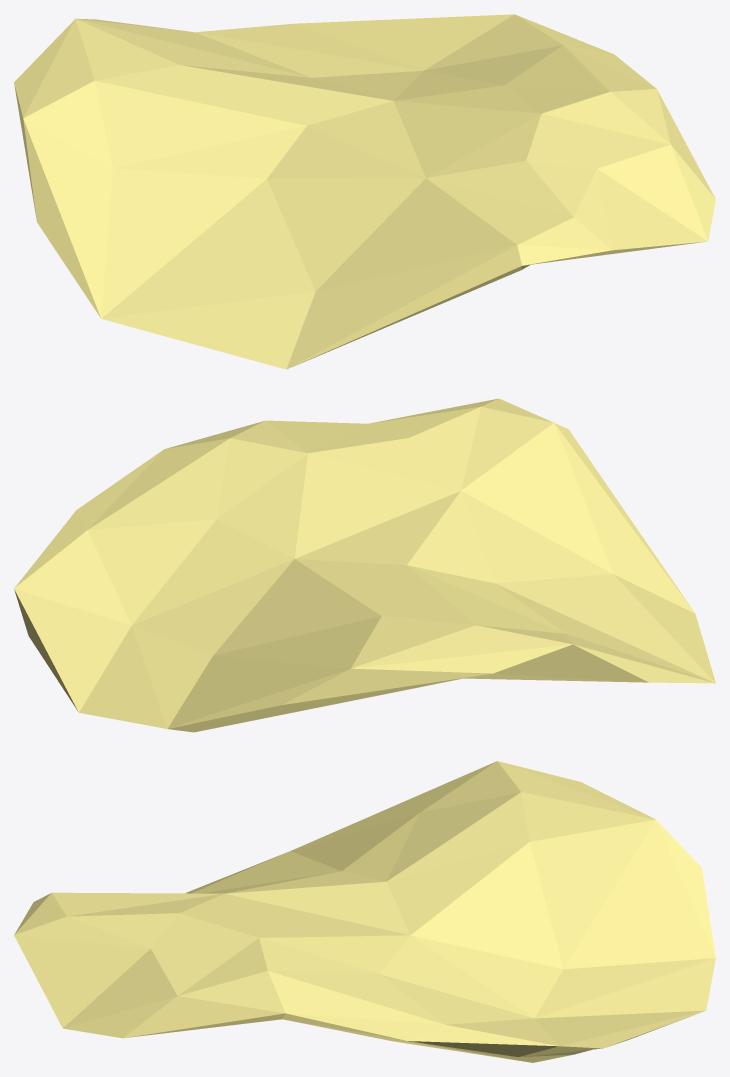
Rendered from Coral_platform_009.glb.
3 views of the same model, one above another, from view 1: azimuth 30°, elevation 25°; view 2: azimuth 150°, elevation 25°; view 3: azimuth 270°, elevation 25° (orthographic). The views are drawn at different scales.
Visible parts, largest first — view 1: Coral_platform_009; view 2: Coral_platform_009; view 3: Coral_platform_009.
Part boxes in pixels (<box>): Coral_platform_009: <box>14,14,715,369</box>; Coral_platform_009: <box>14,398,715,732</box>; Coral_platform_009: <box>14,761,715,1062</box>.
Size of the model in its own units: 1.74 by 0.4293 by 1.96.
1 material, 1 textured.
